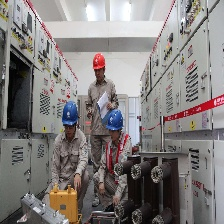helmet: (62, 99, 80, 125), (108, 109, 123, 131), (92, 54, 106, 69)
no-vest: (51, 132, 85, 184), (89, 80, 114, 136)
person: (51, 99, 90, 223), (100, 107, 133, 224), (87, 54, 118, 178)
